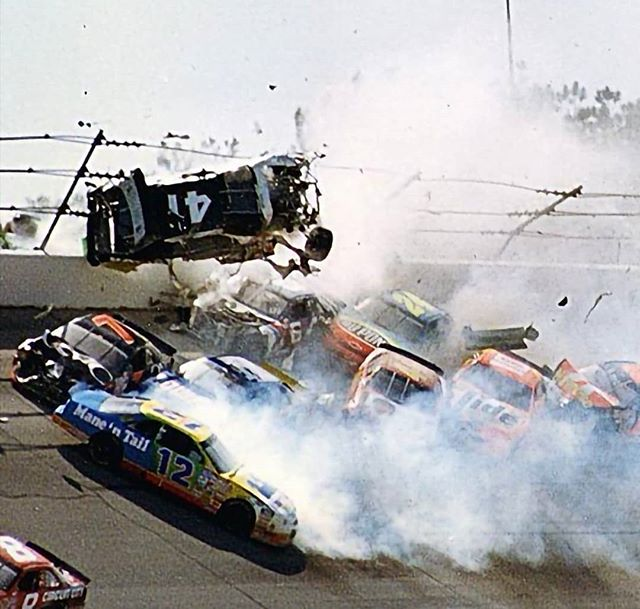car: (46, 146, 347, 321), (49, 376, 306, 553), (10, 309, 182, 406), (188, 275, 331, 373)
smoke: (170, 358, 640, 574)
